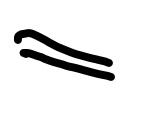eqv: (14, 29, 115, 81)
